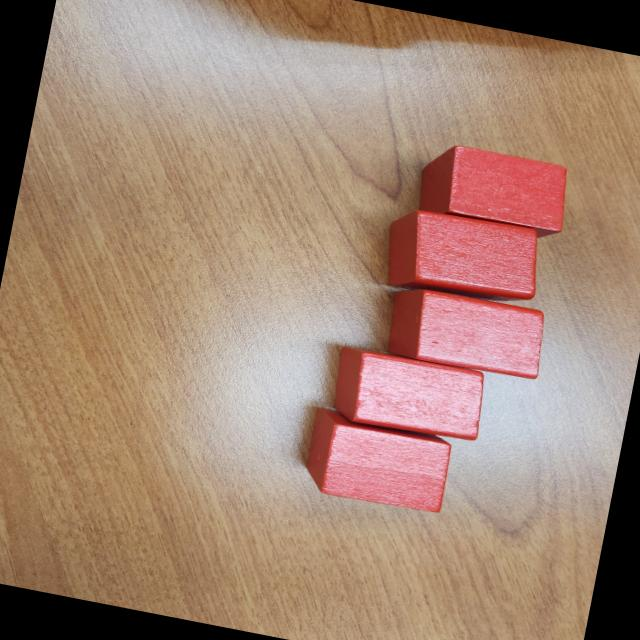red: (410, 139, 576, 245), (305, 408, 448, 514), (387, 291, 546, 380), (335, 347, 483, 442), (386, 210, 534, 301)
